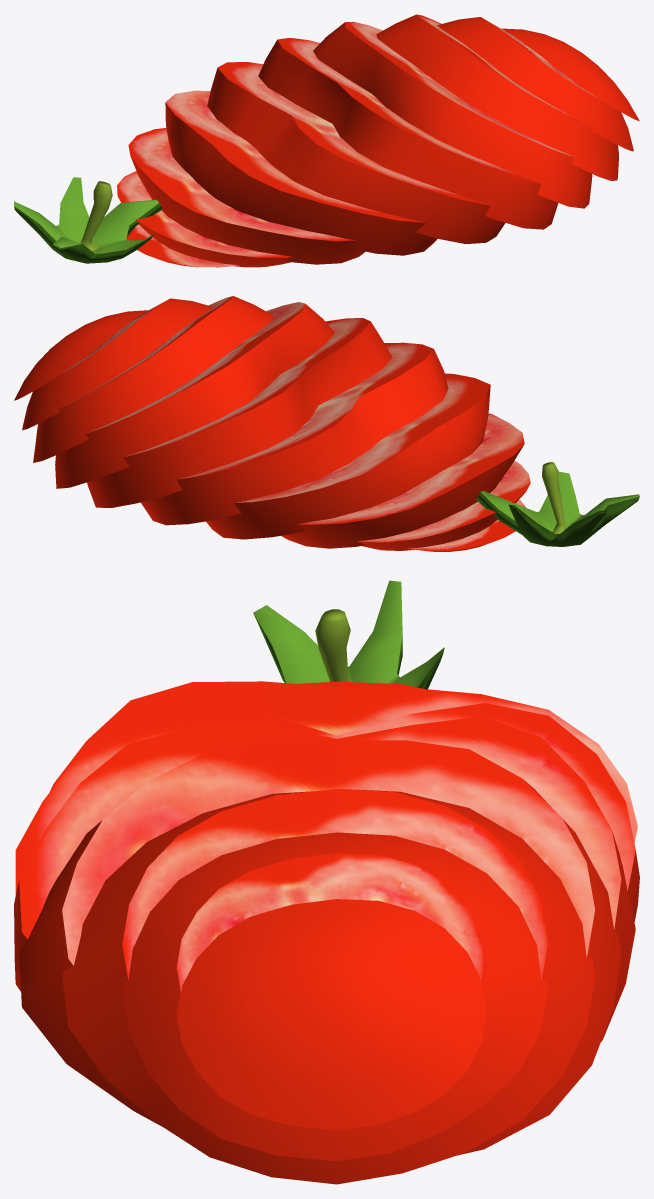
The model's file is tomato01.fbx.
3 views of the same model, one above another, from view 1: azimuth 30°, elevation 25°; view 2: azimuth 150°, elevation 25°; view 3: azimuth 270°, elevation 25° (orthographic). The views are drawn at different scales.
Visible parts, largest first — view 1: tomato01; view 2: tomato01; view 3: tomato01.
Boxes of the visible parts, x1=… form: tomato01: x1=14, y1=14, x2=639, y2=267; tomato01: x1=14, y1=296, x2=639, y2=551; tomato01: x1=14, y1=580, x2=639, y2=1184.
Bounding box in the file's own units: 2.14 × 0.592 × 1.14.
